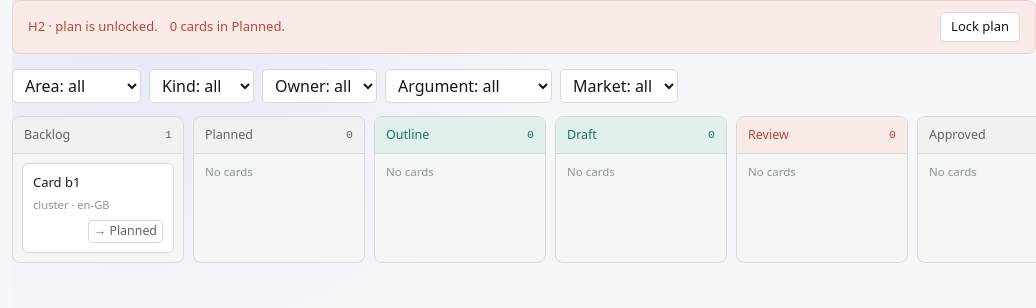
Scenario: V3 Content Hub plan board › rolls back and reports a failed move
Expected: the element with test id "column-backlog" is shown, [12,116,184,263]
Click the button with aria-label "Move Card b1 to Planned". click: (125, 231)
box: [88,220,163,243]
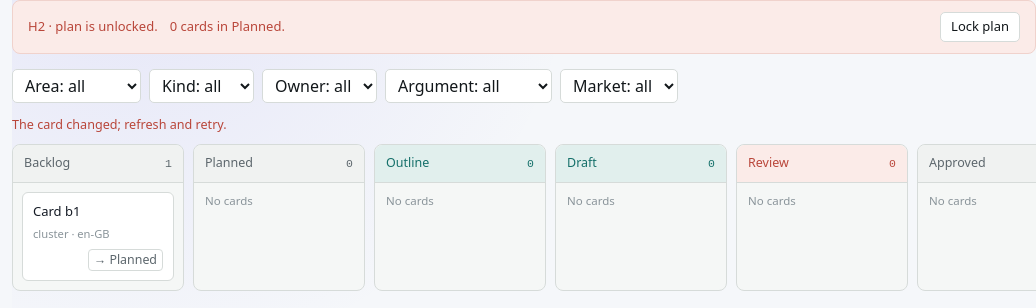
Expected: the link "Card b1" is shown, [33,202,80,220]
Expected: the message reads "The card changed; refresh and retry.", [12,116,227,132]
